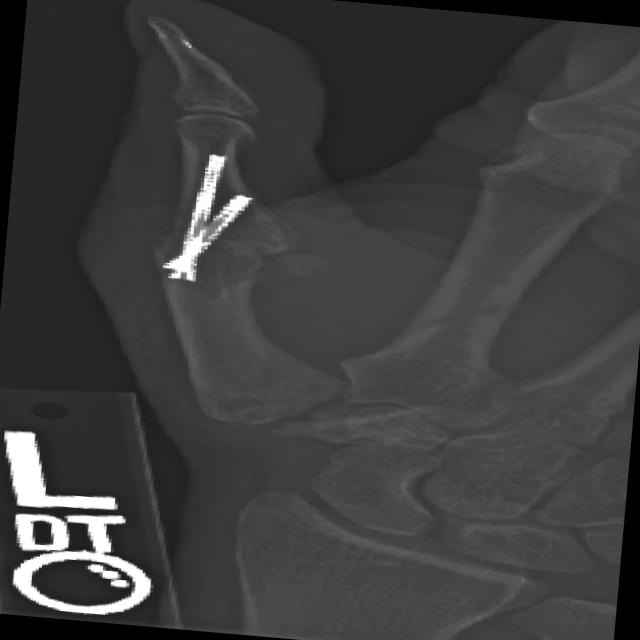fingers positive: (131, 165, 361, 304)
